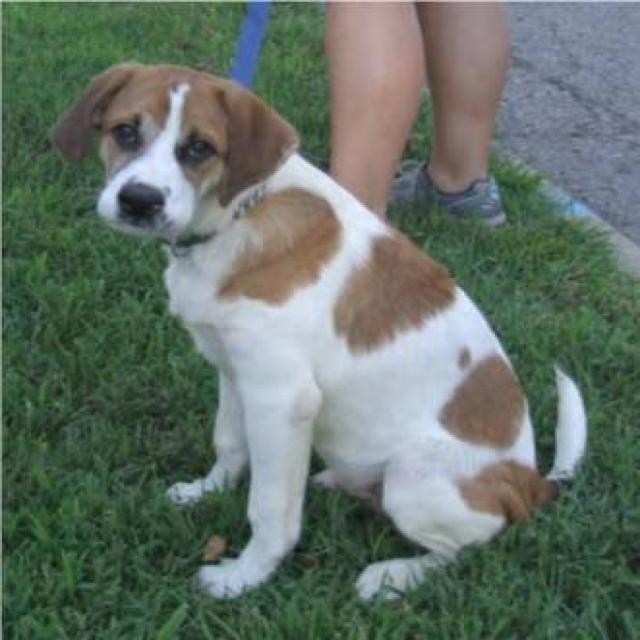Dogs: (46, 59, 588, 604)
